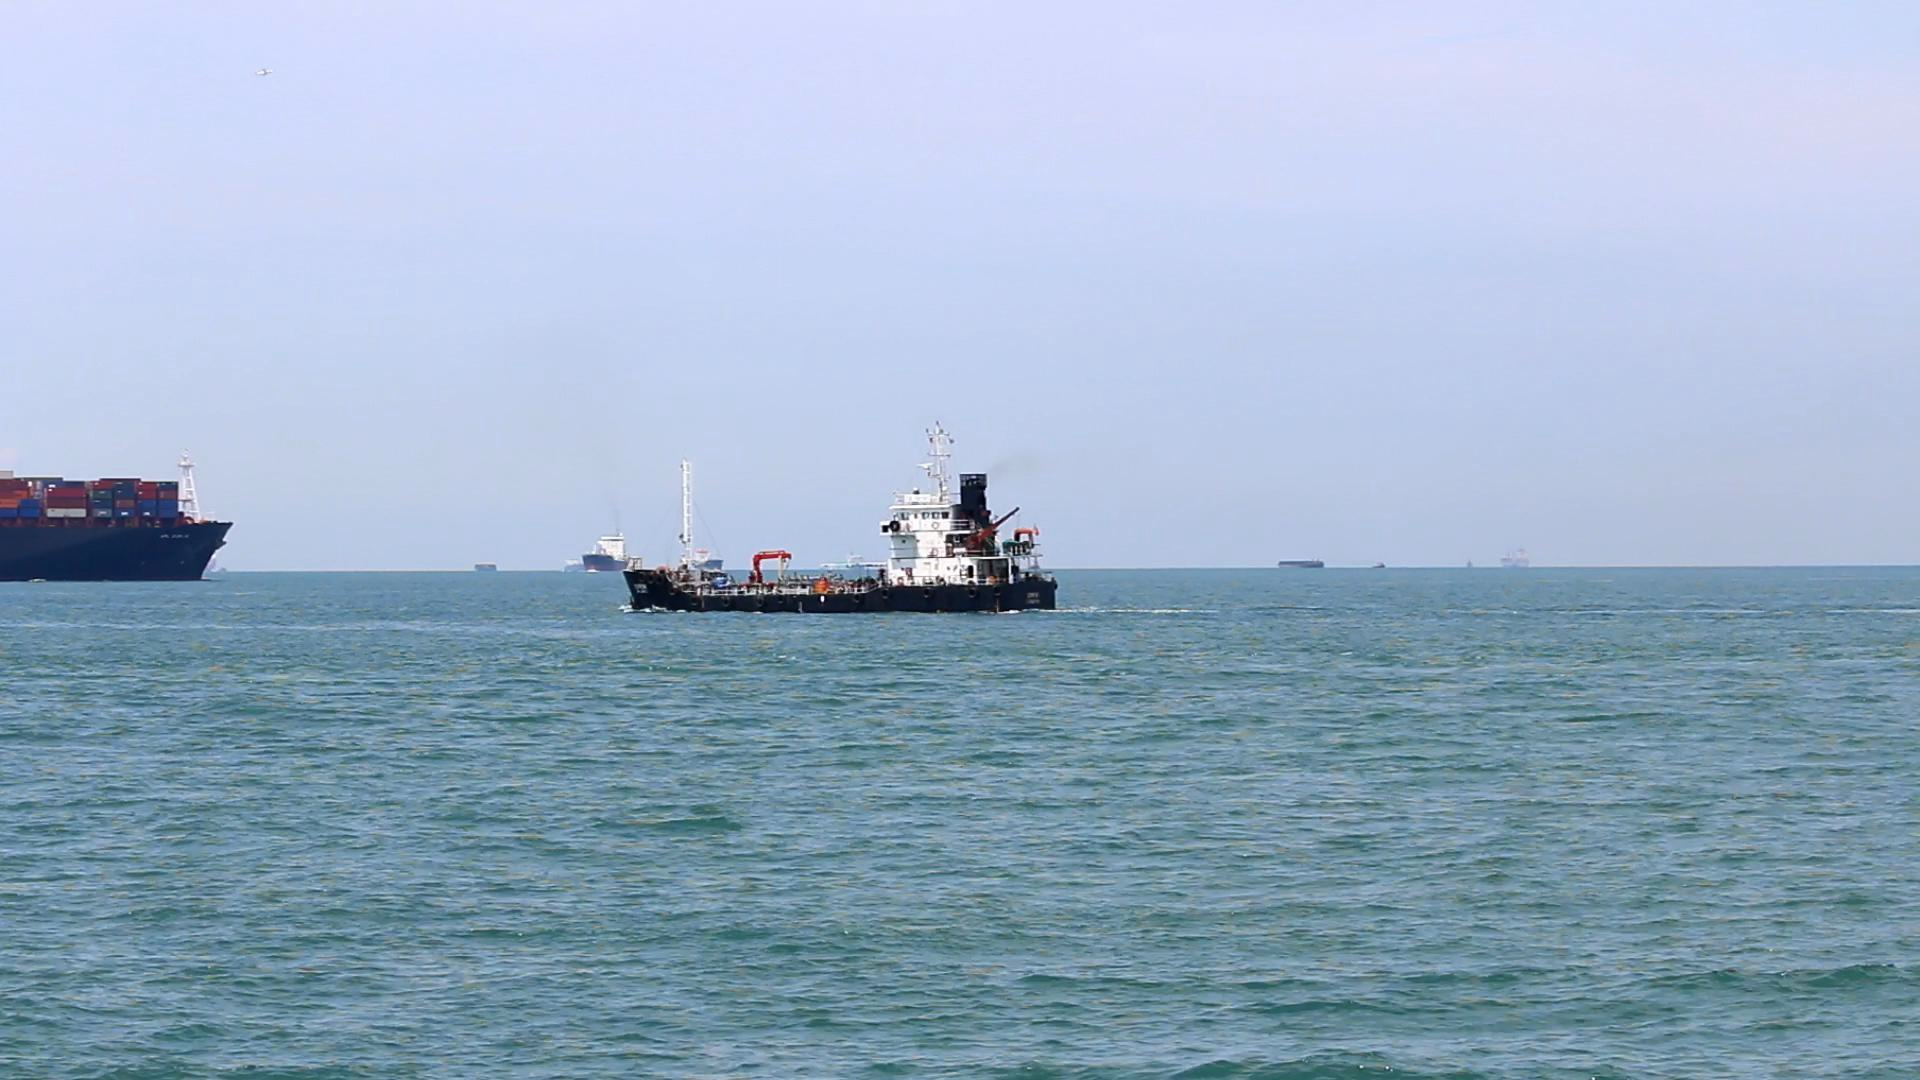Container Ship: (615, 418, 1067, 622), (3, 439, 240, 591), (583, 518, 638, 575), (1274, 546, 1329, 576), (1501, 539, 1545, 572), (556, 553, 591, 582)
